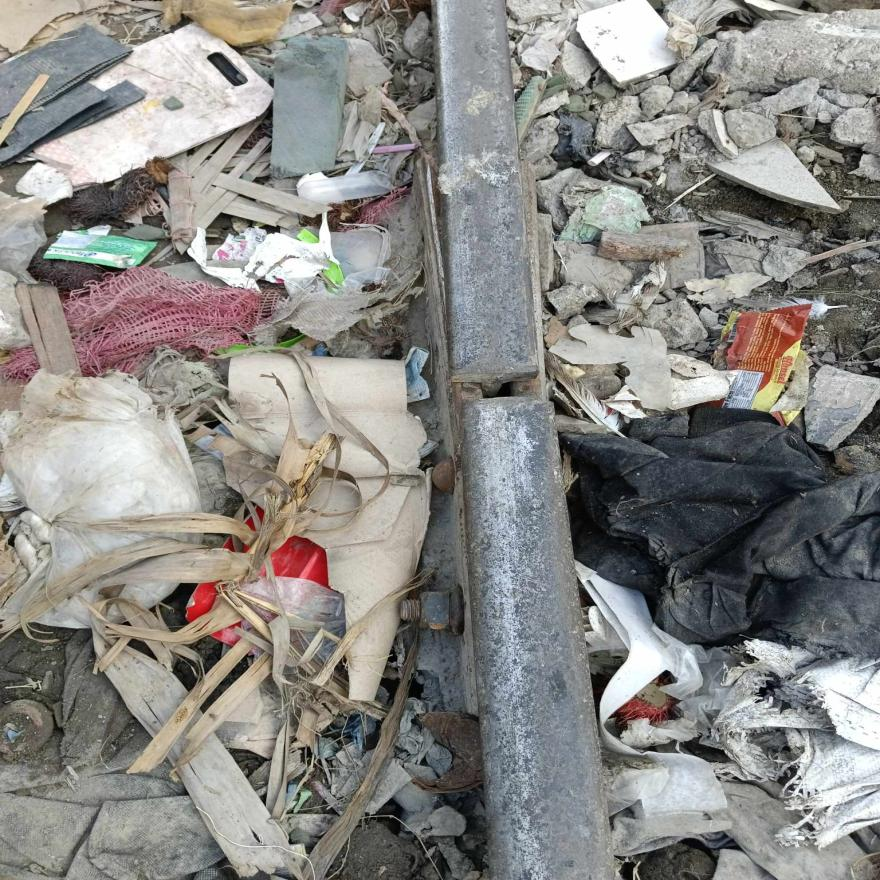railway-gap: (407, 323, 575, 456)
